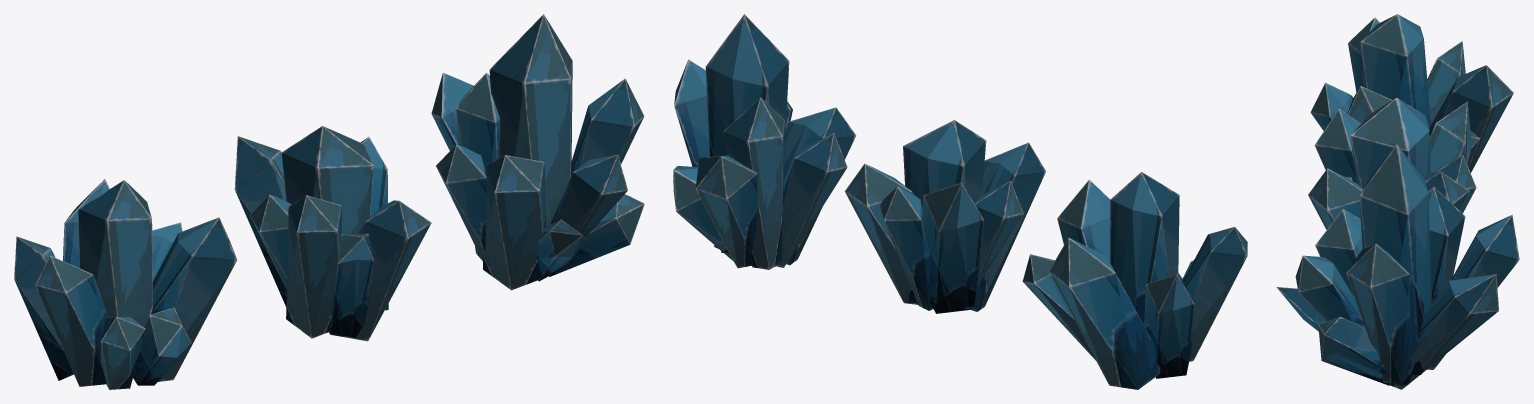
Rendered from low_poly_crystals.glb.
3 renders of one model, left to right at view 1: azimuth 30°, elevation 25°; view 2: azimuth 150°, elevation 25°; view 3: azimuth 270°, elevation 25°, orthographic. The views are drawn at different scales.
Visible parts, largest first — view 1: Object_3, Object_2; view 2: Object_3, Object_2; view 3: Object_3, Object_2.
Part boxes in pixels (bbox=[...]): Object_3: bbox=[14, 14, 644, 389]; Object_2: bbox=[152, 217, 237, 381]; Object_3: bbox=[673, 14, 1247, 389]; Object_2: bbox=[1057, 179, 1110, 262]; Object_3: bbox=[1276, 14, 1519, 389]; Object_2: bbox=[1347, 86, 1392, 123].
Size of the model in its own units: 10.49 by 4.44 by 3.95.
Materials: 2 (2 with a texture image).
